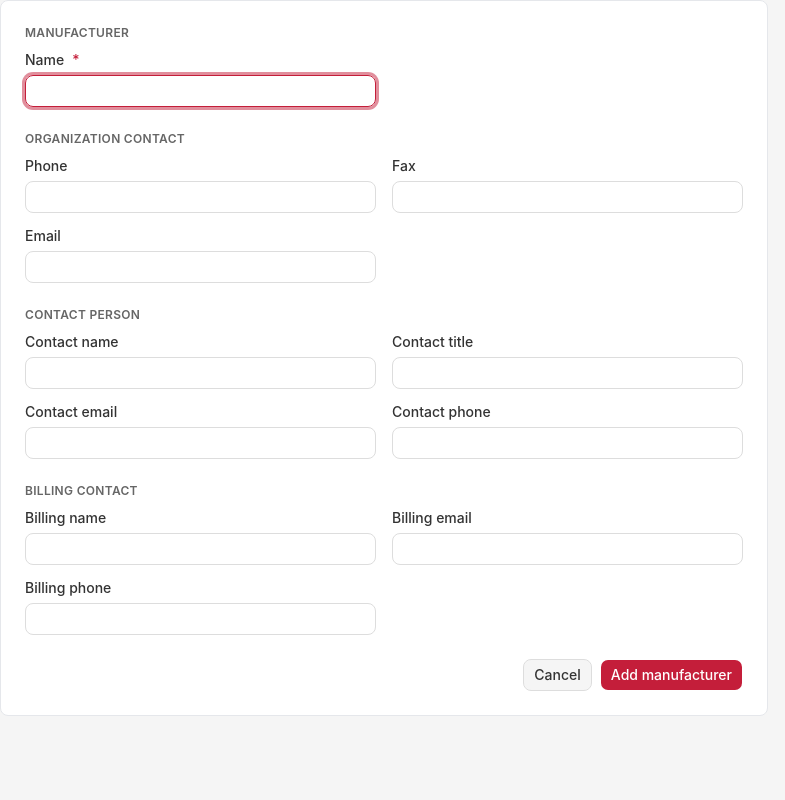
Test: when the contact write fails after the row was created › says the row was saved rather than reporting a bare failure
The width and height of the screenshot is (785, 800).
Type "Beta Devices" into the field labelled "Name *" at (200, 91), box 25,75 -> 376,107
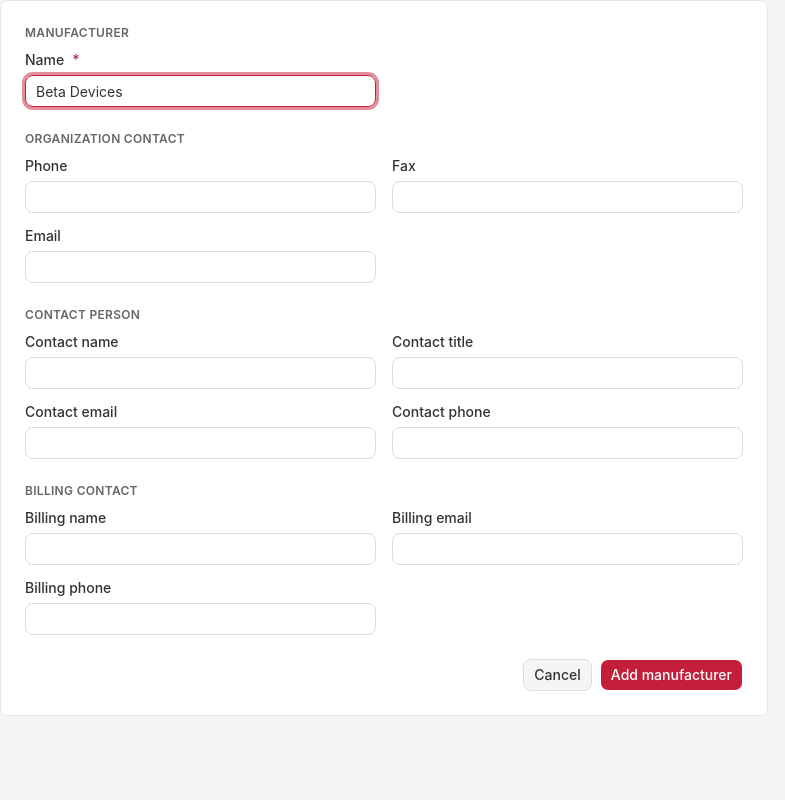
Type "dana@beta.invalid" into the field labelled "Contact email" at (200, 443), box 25,427 -> 376,459
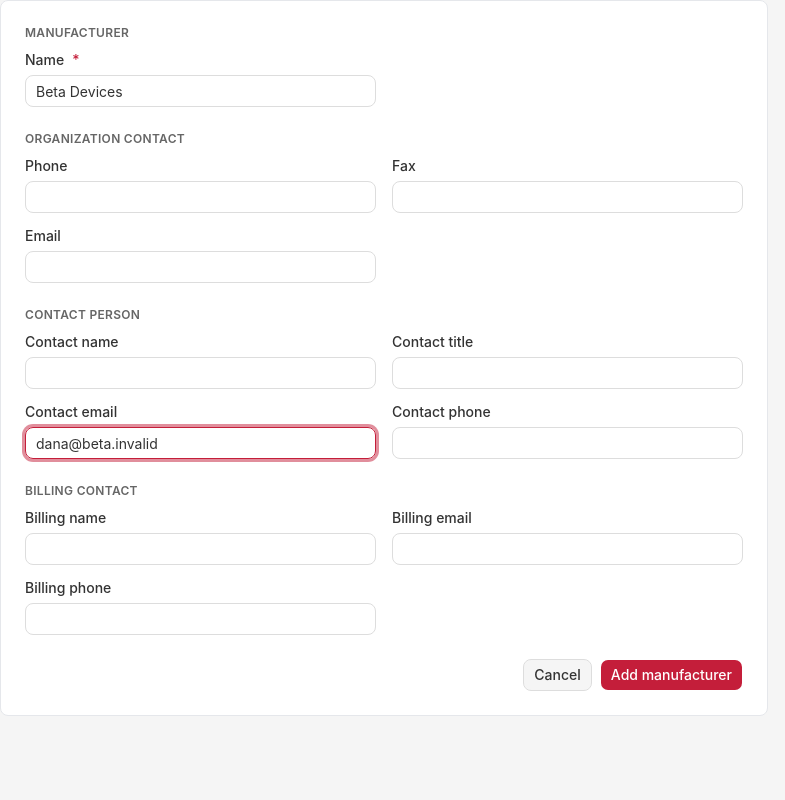
Click the button "Add manufacturer" at (671, 675), box 600,659 -> 743,691
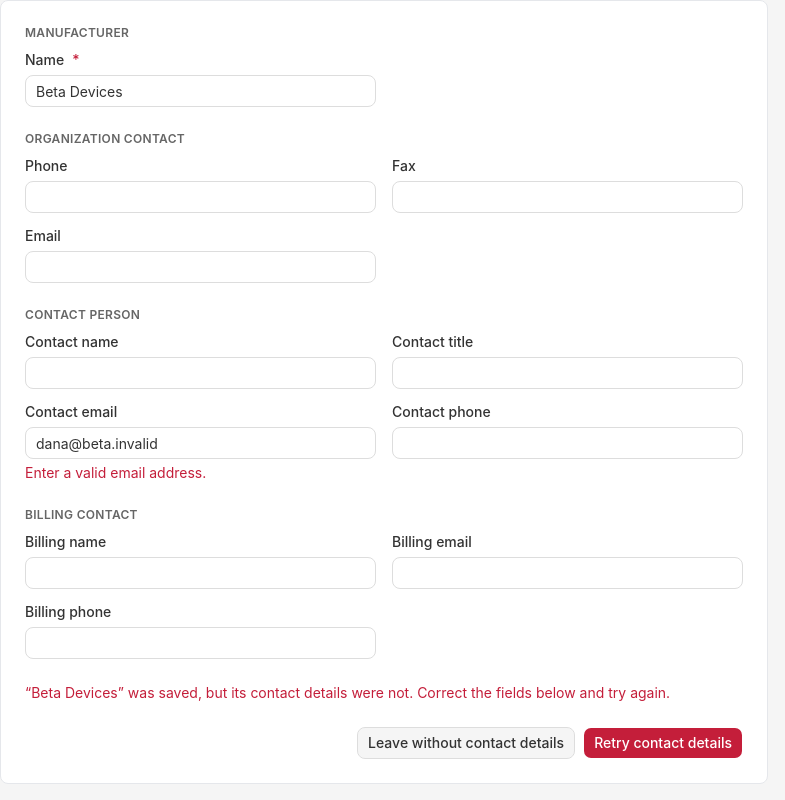
Check: the message shows "“Beta Devices” was saved, but its contact details were not", box 25,683 -> 743,703
